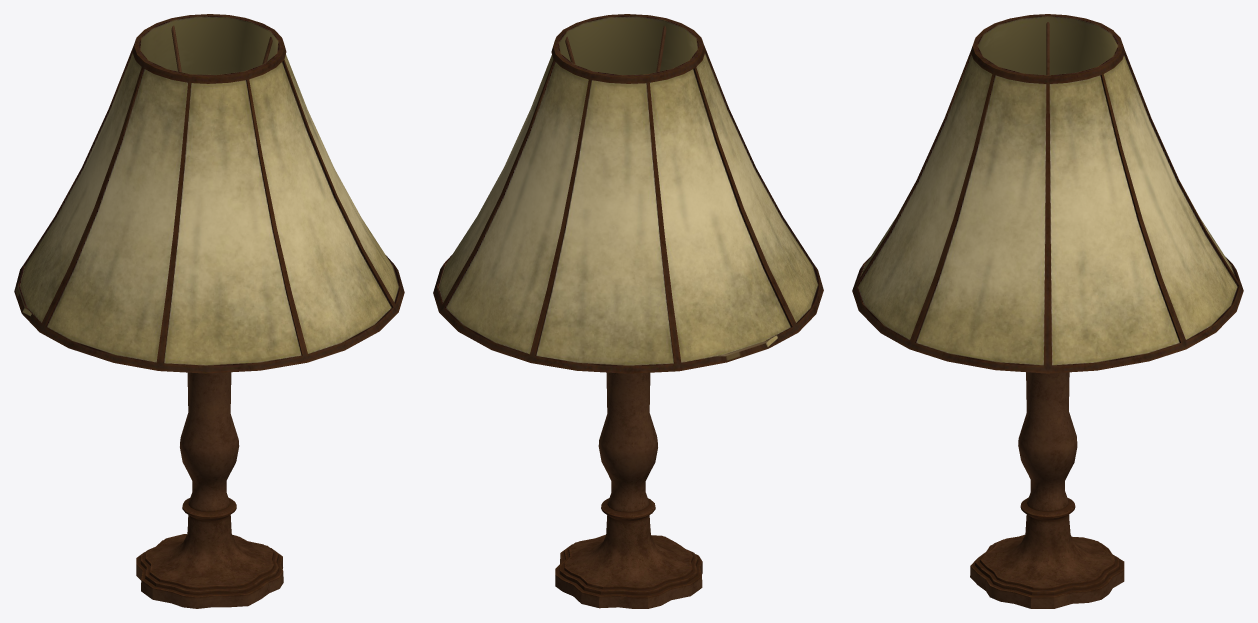
Rendered from head.glb.
3 views of the same model, side by side, from view 1: azimuth 30°, elevation 25°; view 2: azimuth 150°, elevation 25°; view 3: azimuth 270°, elevation 25° (orthographic).
Visible parts, largest first — view 1: tablelight2; view 2: tablelight2; view 3: tablelight2.
Boxes of the visible parts, box(x1,y1,x2,y2) form: tablelight2: box(14, 14, 404, 608); tablelight2: box(433, 14, 823, 608); tablelight2: box(852, 14, 1243, 608).
Bounding box in the file's own units: 0.2282 × 0.3416 × 0.2282.
Materials: 1 (1 with a texture image).
